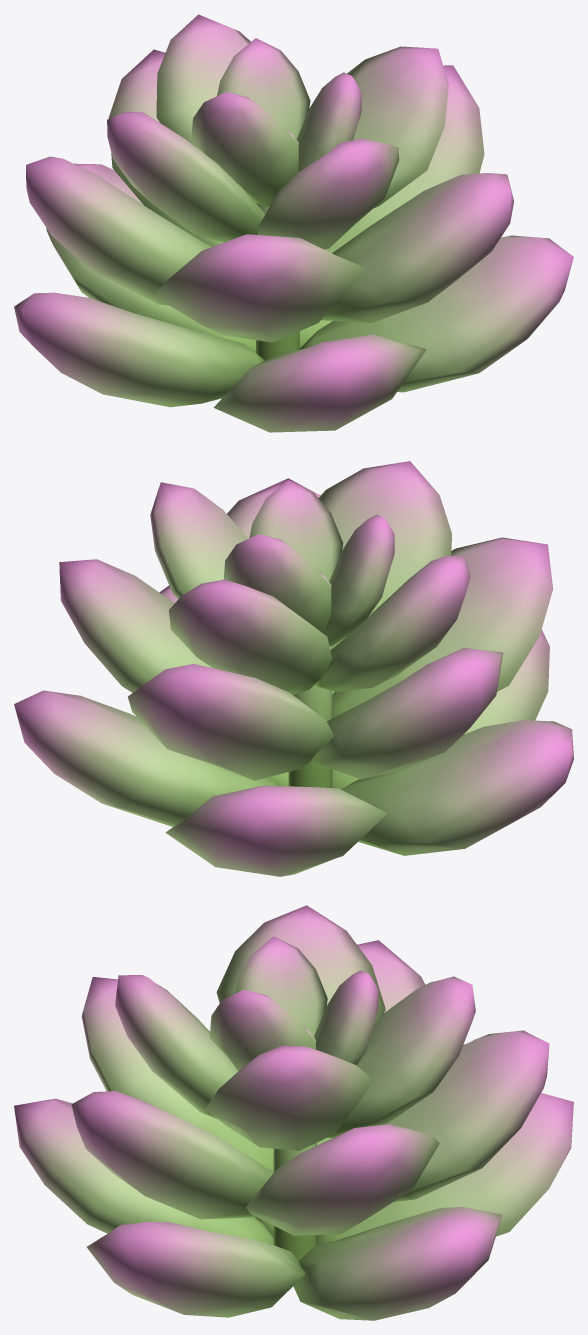
The model's file is Succulents_01_S.fbx.
3 views of the same model, one above another, from view 1: azimuth 30°, elevation 25°; view 2: azimuth 150°, elevation 25°; view 3: azimuth 270°, elevation 25° (orthographic).
Parts seen in each view (by area): view 1: Object002; view 2: Object002; view 3: Object002.
Boxes of the visible parts, bbox=[...] form: Object002: bbox=[14, 14, 573, 432]; Object002: bbox=[14, 461, 573, 876]; Object002: bbox=[14, 905, 573, 1320].
Bounding box in the file's own units: 26.86 × 16.84 × 27.63.
